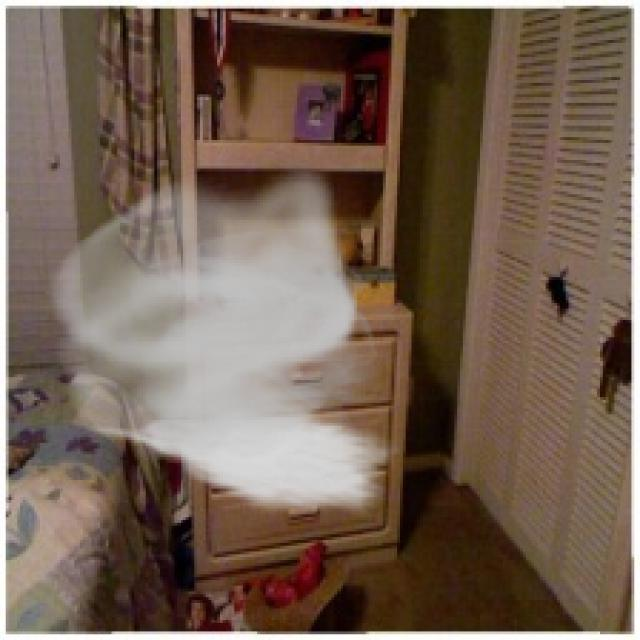smoke: (40, 169, 400, 517)
